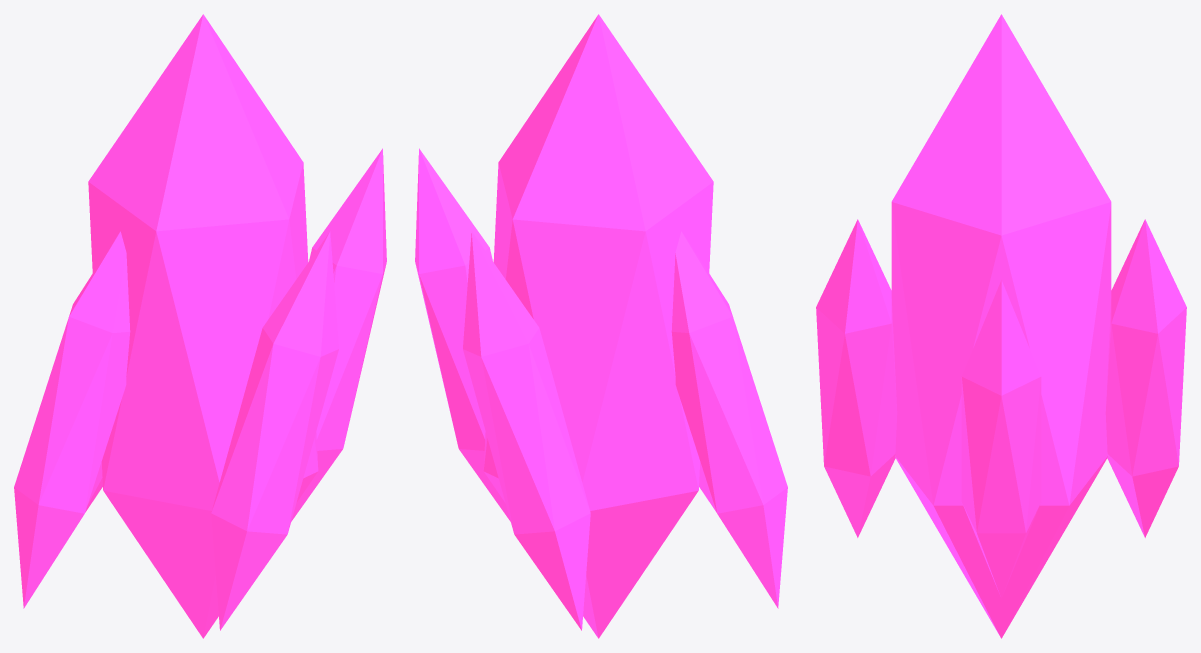
The model's file is blood_endpoint.glb.
The picture shows the model from 3 angles, left to right: view 1: azimuth 30°, elevation 25°; view 2: azimuth 150°, elevation 25°; view 3: azimuth 270°, elevation 25°; orthographic projection.
Parts seen in each view (by area): view 1: blood_endpoint; view 2: blood_endpoint; view 3: blood_endpoint.
Boxes of the visible parts, x1=… form: blood_endpoint: x1=14, y1=14, x2=386, y2=638; blood_endpoint: x1=415, y1=14, x2=787, y2=638; blood_endpoint: x1=816, y1=14, x2=1186, y2=638.
Size of the model in its own units: 0.5838 by 0.96 by 0.5163.
